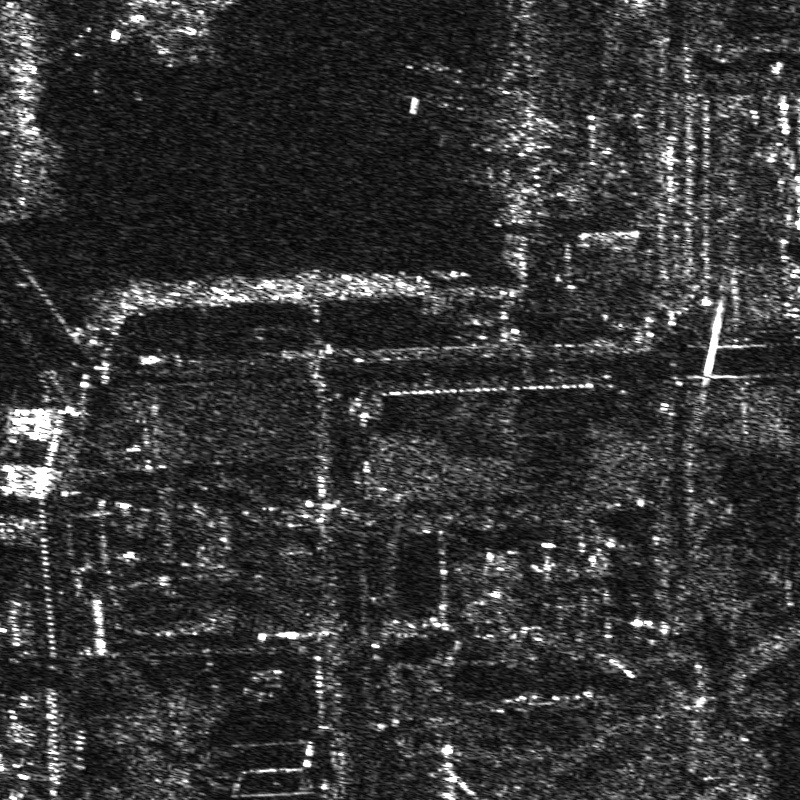A220: (405, 48, 469, 113)
